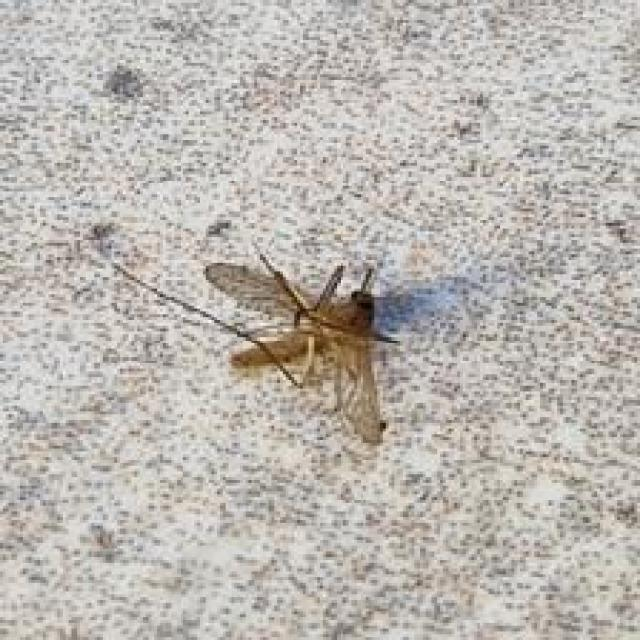Culex: (85, 222, 402, 447)
